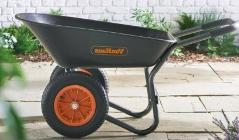BROUETTE: (6, 9, 238, 140)
